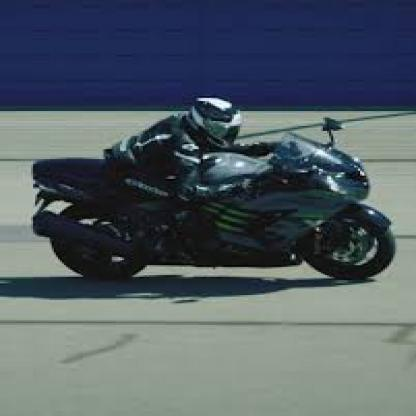Motorcycle: (29, 139, 400, 285)
